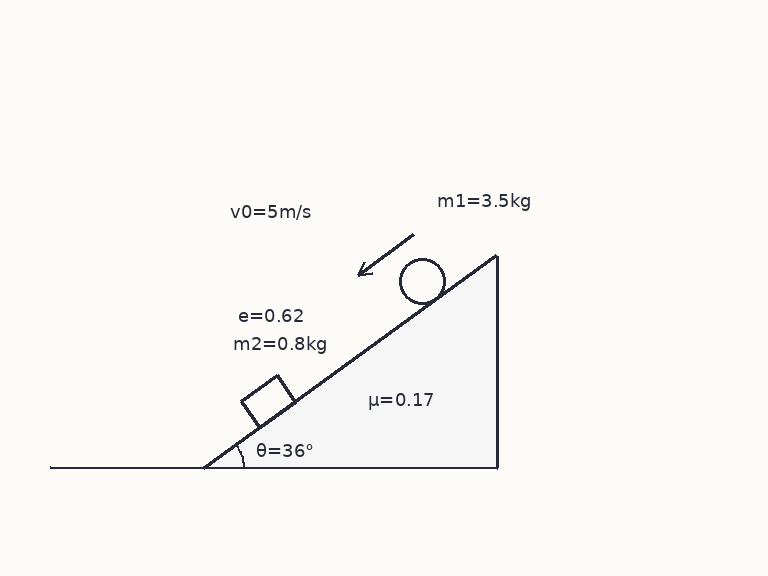ball: (397, 256, 447, 306)
block: (239, 373, 298, 429)
ramp: (202, 254, 498, 470)
